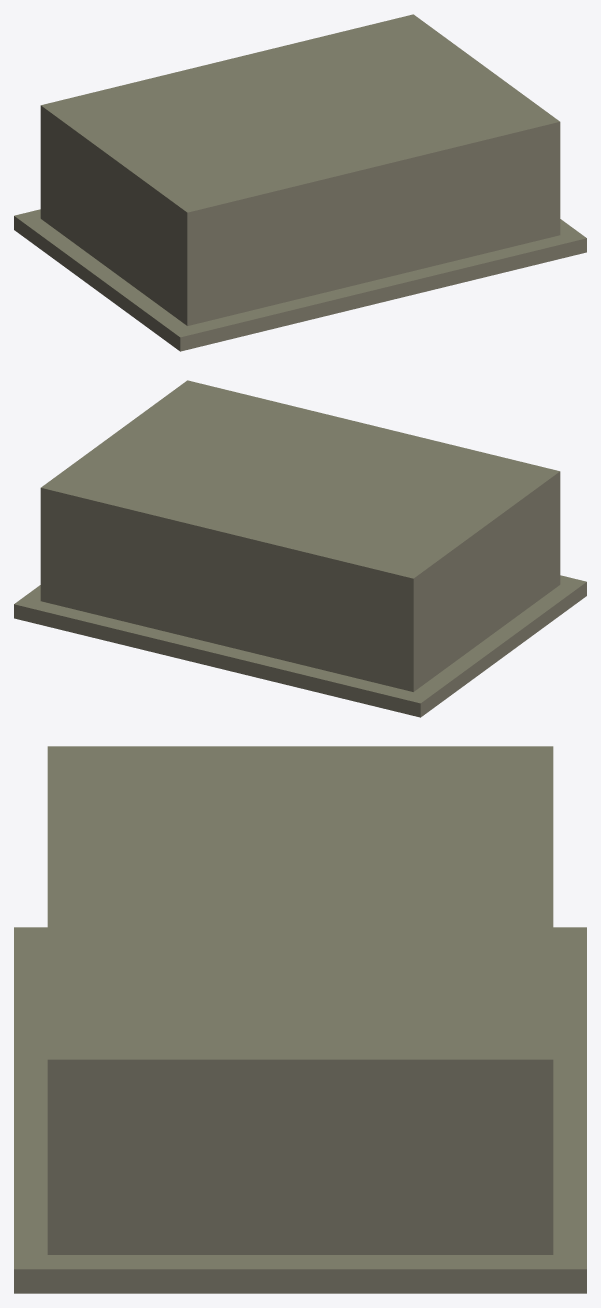
The model's file is ruin-house-b.far-facades-v2.lod2.glb.
3 renders of one model, top to bottom at view 1: azimuth 30°, elevation 25°; view 2: azimuth 150°, elevation 25°; view 3: azimuth 270°, elevation 25°, orthographic. The views are drawn at different scales.
Parts seen in each view (by area): view 1: ruin-house-b; view 2: ruin-house-b; view 3: ruin-house-b.
Boxes of the visible parts, bbox=[...] form: ruin-house-b: bbox=[14, 14, 586, 351]; ruin-house-b: bbox=[14, 380, 586, 717]; ruin-house-b: bbox=[14, 746, 586, 1293].
Size of the model in its own units: 12 by 3.6 by 8.5.
